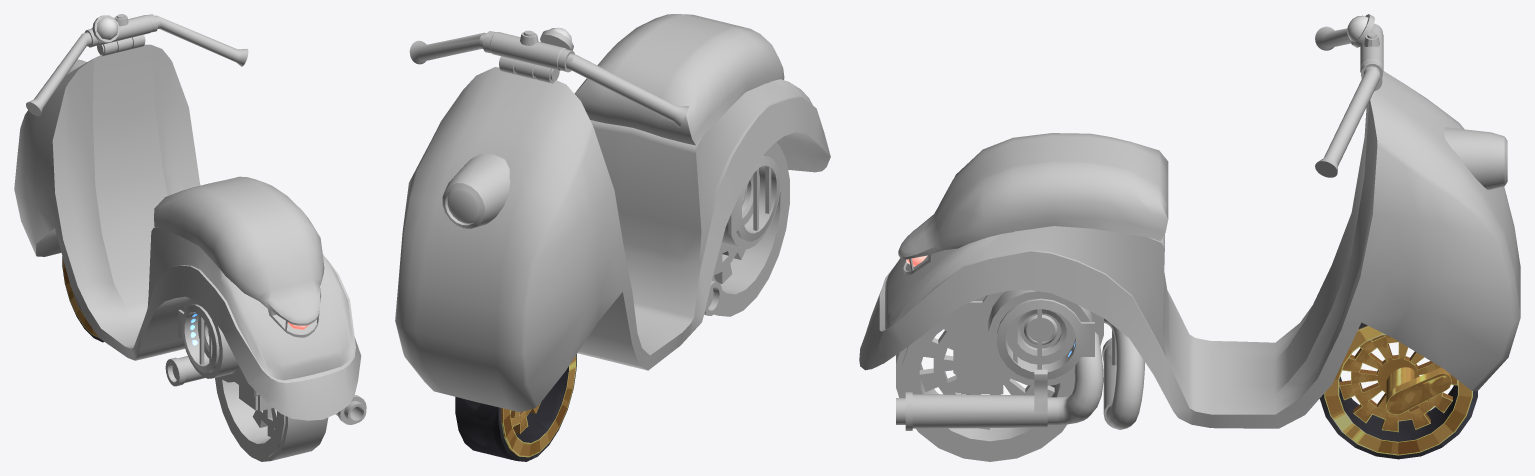
File: Hero_Piltover_Moped.fbx
3 renders of one model, left to right at view 1: azimuth 30°, elevation 25°; view 2: azimuth 150°, elevation 25°; view 3: azimuth 270°, elevation 25°, orthographic. The views are drawn at different scales.
Visible parts, largest first — view 1: Moped_Body, Moped_Seat, Back_Wheel, Moped_Handle_2, Back_Wheel_Detail_1, Moped_Pipe_3, Moped_Pipe_4, Moped_Handle_1, Front_Wheel, Back_Wheel_Detail_2, Moped_Map; view 2: Moped_Body, Moped_Seat, Front_Wheel, Moped_Handle_2, Back_Wheel, Moped_Light, Back_Wheel_Detail_1, Moped_Handle_1, Moped_Pipe_3; view 3: Moped_Body, Moped_Seat, Front_Wheel, Back_Wheel_Detail_1, Back_Wheel, Moped_Pipe_4, Moped_Handle_2, Moped_Light, Moped_Pipe_2, Moped_Pipe_1, Front_Wheel_Pedal_2, Back_Wheel_Detail_2 (+1 smaller).
Boxes of the visible parts, x1=… form: Moped_Body: x1=14, y1=44, x2=361, y2=420; Moped_Seat: x1=154, y1=176, x2=324, y2=337; Back_Wheel: x1=215, y1=377, x2=328, y2=461; Moped_Handle_2: x1=26, y1=14, x2=248, y2=116; Back_Wheel_Detail_1: x1=178, y1=298, x2=259, y2=396; Moped_Pipe_3: x1=165, y1=356, x2=204, y2=386; Moped_Pipe_4: x1=335, y1=395, x2=366, y2=424; Moped_Handle_1: x1=97, y1=34, x2=145, y2=56; Front_Wheel: x1=62, y1=256, x2=103, y2=342; Back_Wheel_Detail_2: x1=239, y1=385, x2=272, y2=410; Moped_Map: x1=96, y1=17, x2=117, y2=39; Moped_Body: x1=395, y1=67, x2=830, y2=412; Moped_Seat: x1=574, y1=14, x2=784, y2=145; Front_Wheel: x1=455, y1=354, x2=576, y2=461; Moped_Handle_2: x1=409, y1=31, x2=688, y2=127; Back_Wheel: x1=712, y1=142, x2=789, y2=316; Moped_Light: x1=442, y1=153, x2=510, y2=228; Back_Wheel_Detail_1: x1=719, y1=145, x2=780, y2=253; Moped_Handle_1: x1=499, y1=56, x2=559, y2=83; Moped_Pipe_3: x1=704, y1=280, x2=722, y2=315; Moped_Body: x1=859, y1=71, x2=1520, y2=428; Moped_Seat: x1=898, y1=133, x2=1168, y2=275; Front_Wheel: x1=1319, y1=322, x2=1477, y2=459; Back_Wheel_Detail_1: x1=953, y1=290, x2=1103, y2=385; Back_Wheel: x1=896, y1=313, x2=1074, y2=461; Moped_Pipe_4: x1=896, y1=369, x2=1047, y2=430; Moped_Handle_2: x1=1315, y1=23, x2=1383, y2=177; Moped_Light: x1=1443, y1=127, x2=1507, y2=189; Moped_Pipe_2: x1=1104, y1=318, x2=1144, y2=429; Moped_Pipe_1: x1=1047, y1=332, x2=1103, y2=424; Front_Wheel_Pedal_2: x1=1386, y1=367, x2=1451, y2=414; Back_Wheel_Detail_2: x1=956, y1=296, x2=1003, y2=394.
Bounding box in the file's own units: 82.65 × 120 × 170.
